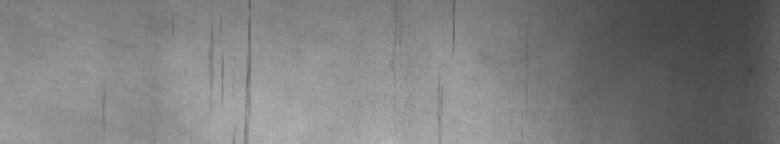ka: (172, 4, 255, 136)
